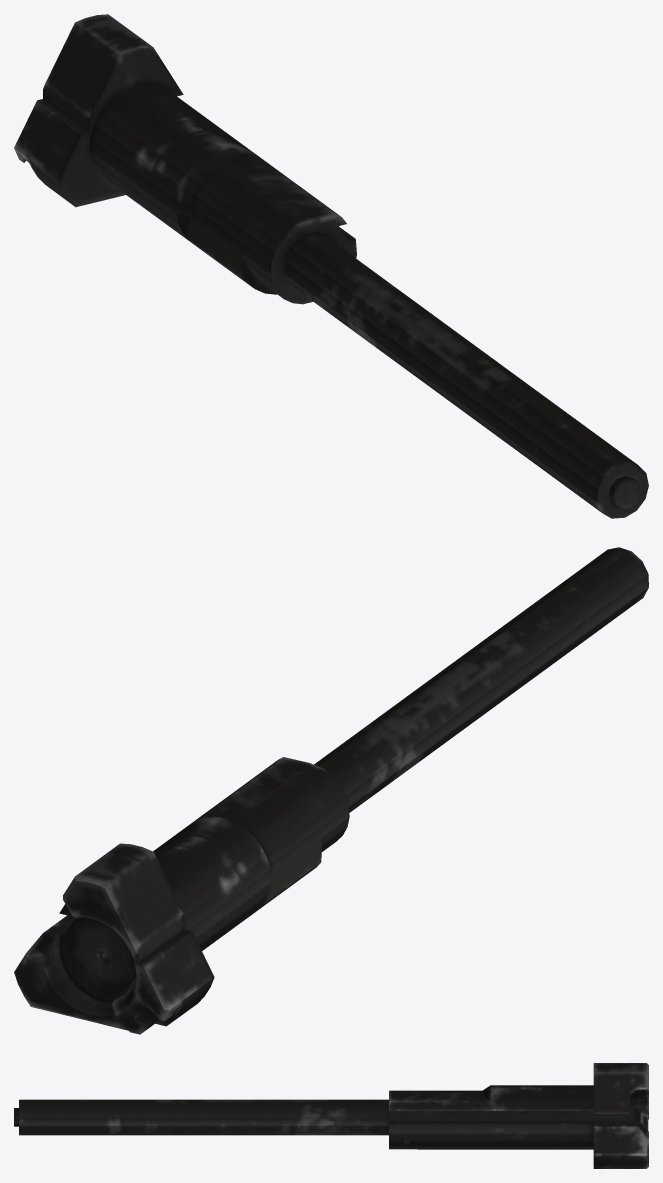
3 renders of one model, top to bottom at view 1: azimuth 30°, elevation 25°; view 2: azimuth 150°, elevation 25°; view 3: azimuth 270°, elevation 25°, orthographic. The views are drawn at different scales.
Parts seen in each view (by area): view 1: TW_67d0576f29f580ebc10efd08_PZ_Import; view 2: TW_67d0576f29f580ebc10efd08_PZ_Import; view 3: TW_67d0576f29f580ebc10efd08_PZ_Import.
Boxes of the visible parts, <box> form: TW_67d0576f29f580ebc10efd08_PZ_Import: <box>14,14,648,518</box>; TW_67d0576f29f580ebc10efd08_PZ_Import: <box>14,547,648,1034</box>; TW_67d0576f29f580ebc10efd08_PZ_Import: <box>14,1063,648,1168</box>.
Size of the model in its own units: 0.0212 by 0.1268 by 0.0186.
1 material, 1 textured.
